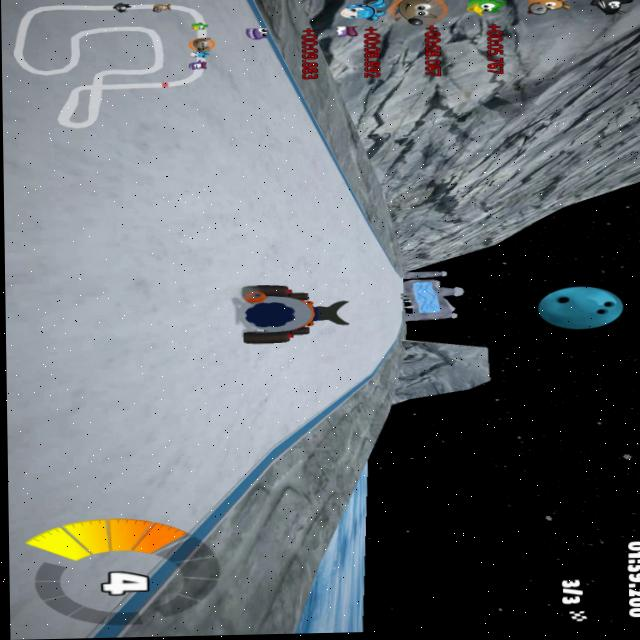enemy_kart: (396, 294, 409, 301)
player_kart: (242, 274, 353, 349)
track: (6, 0, 243, 488), (12, 483, 197, 566), (240, 166, 349, 277), (9, 566, 112, 640), (237, 72, 302, 166), (243, 349, 352, 394), (238, 393, 319, 447), (360, 273, 397, 348), (353, 220, 383, 273), (305, 123, 328, 167), (350, 349, 384, 375), (390, 279, 408, 292)
